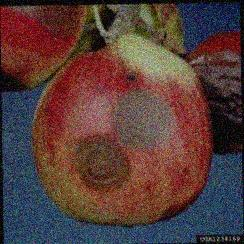rotten apple: (29, 32, 210, 227), (185, 27, 242, 155), (1, 5, 79, 93)
